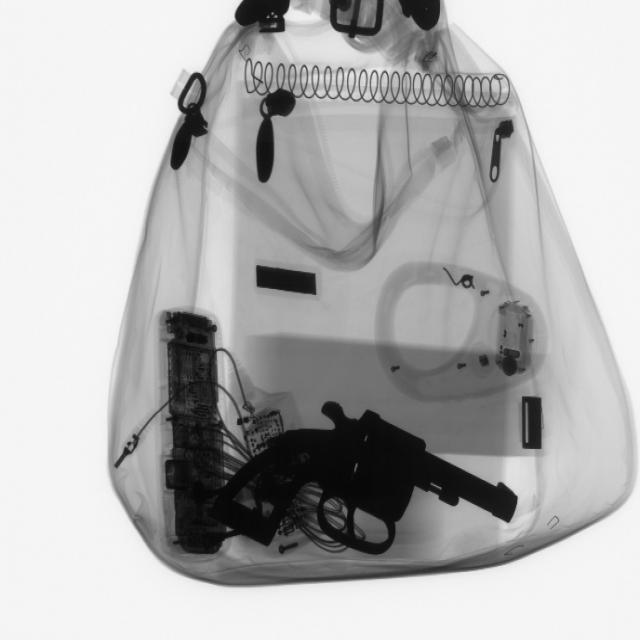GUN: (198, 401, 517, 555)
